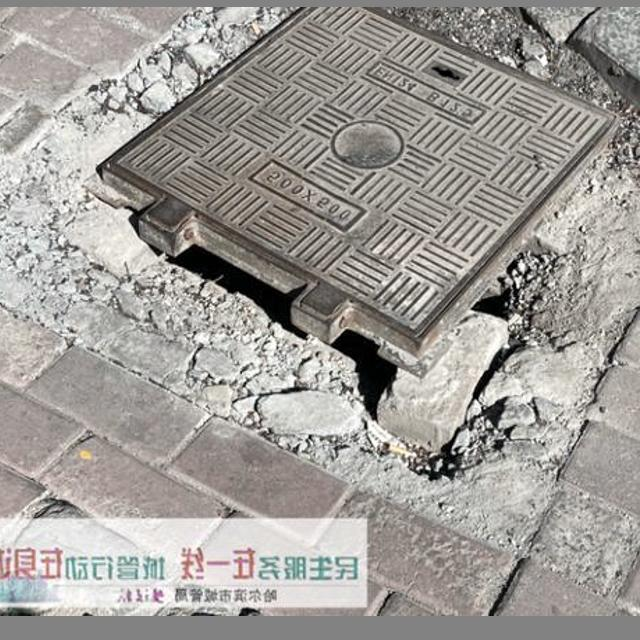circle: (0, 16, 640, 492)
